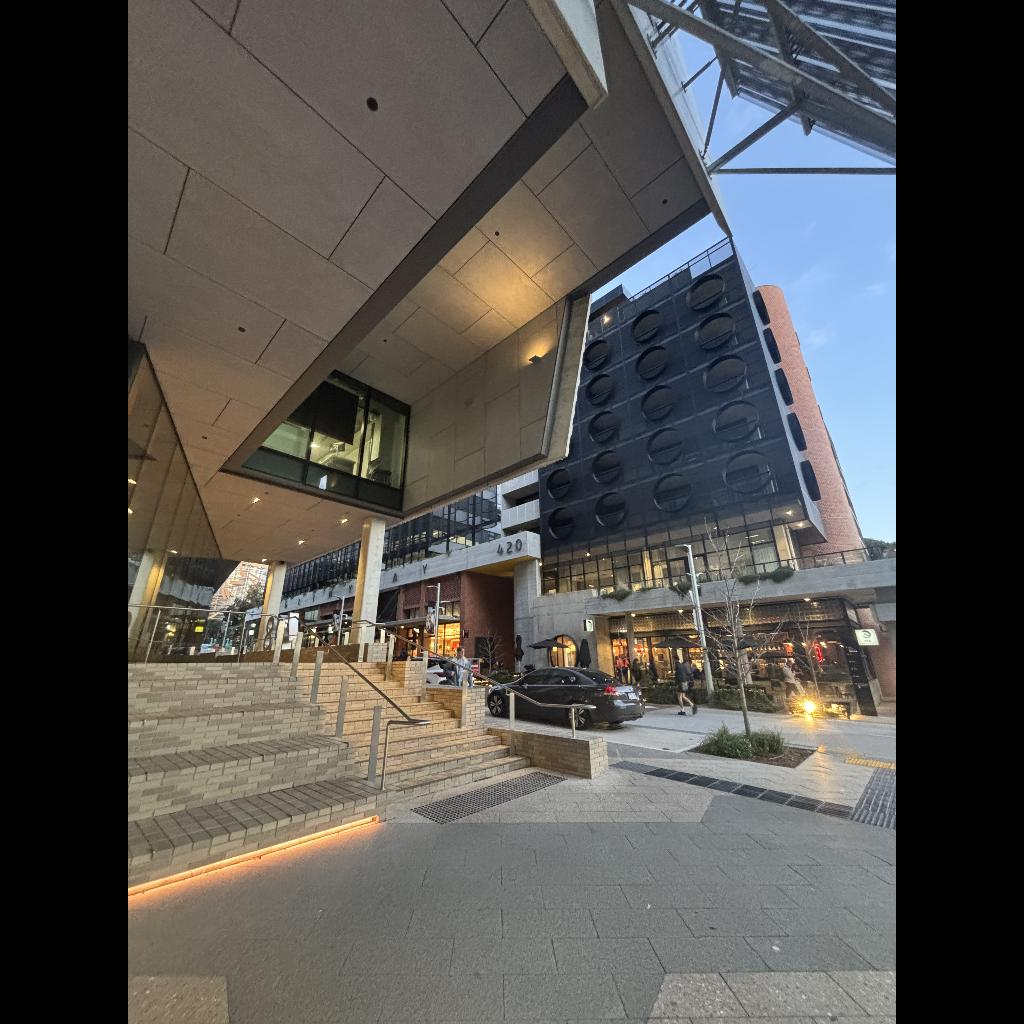BuildingCodes: (496, 538, 522, 556)
